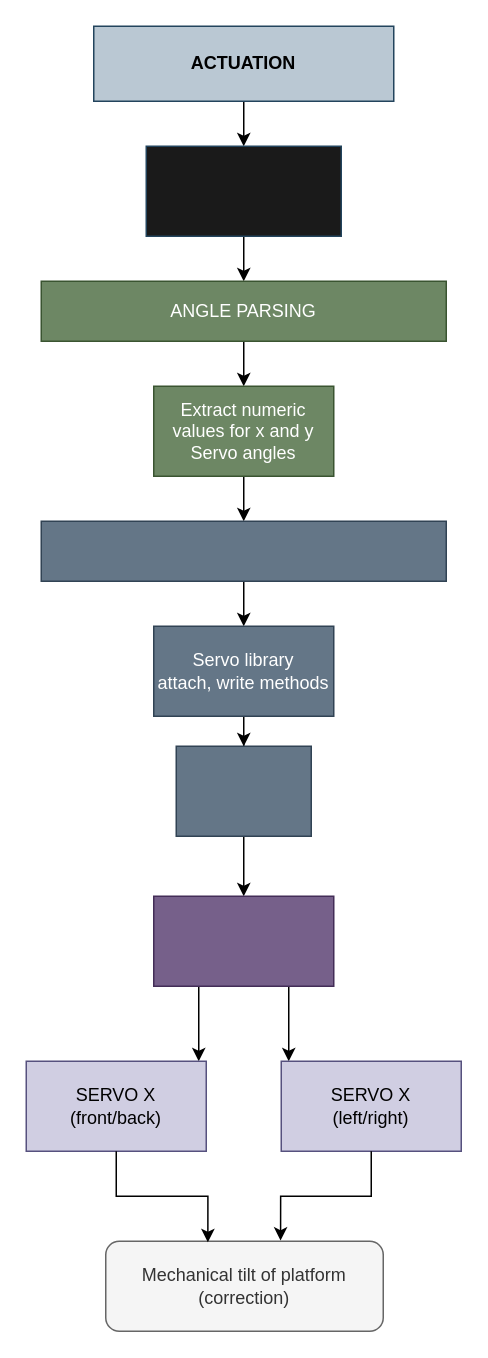
This 488x1358 diagram has some shape labels left out. The shapes that lost their labels are listed below. From the top down, each one's centre as x and y in pixels, then its label:
[243,190]: RECEIVE & READ SERIAL INPUT
[243,550]: ANGLE-PWM MAPPING
[243,790]: Generate PWM signals
[243,940]: DRIVE SERVOS
